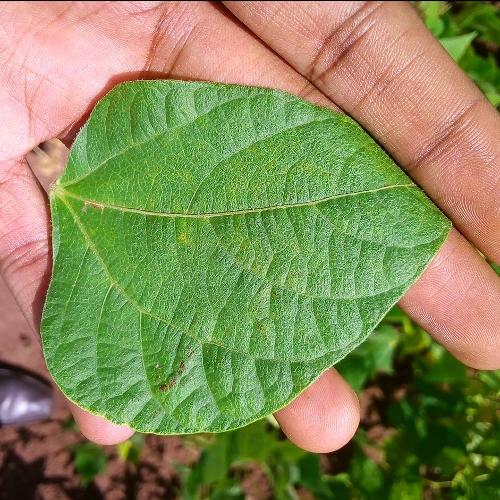hawar: (133, 336, 212, 401)
sehat: (104, 148, 364, 326)
